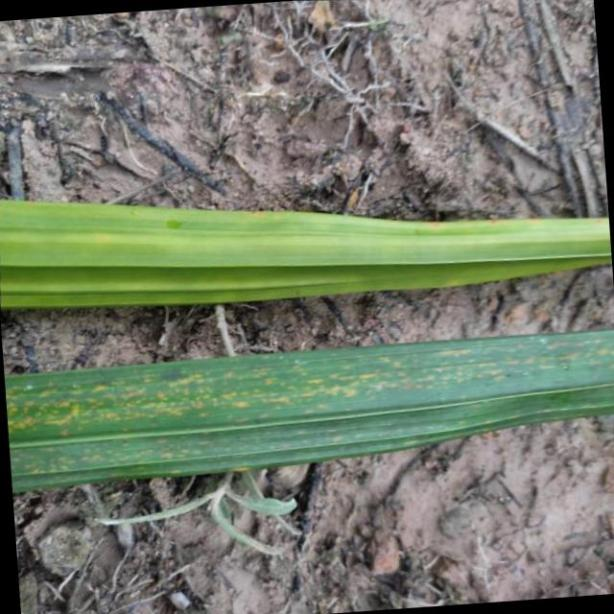nitrogen: (5, 325, 614, 497), (0, 195, 614, 309)
